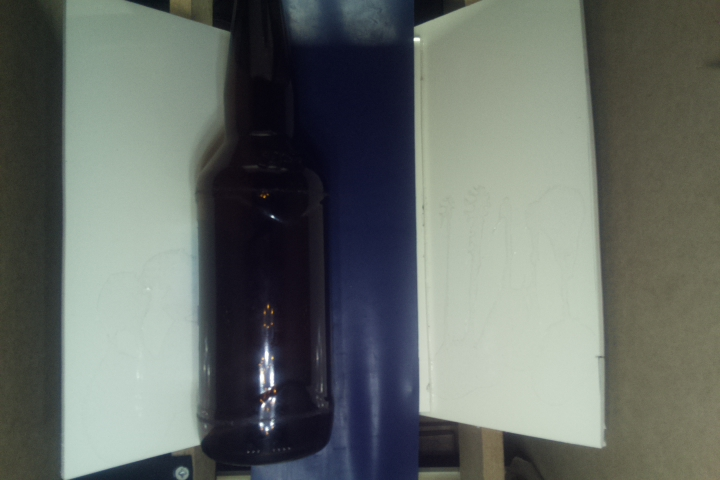makju: (188, 1, 335, 465)
